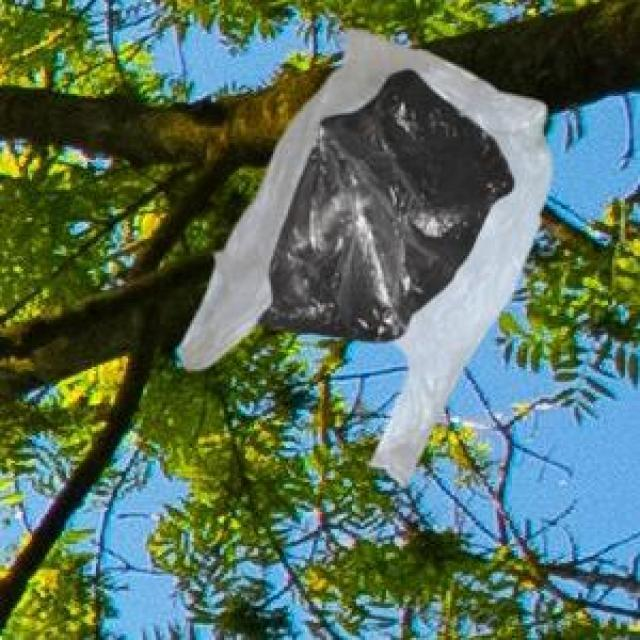waste: (179, 31, 550, 481)
